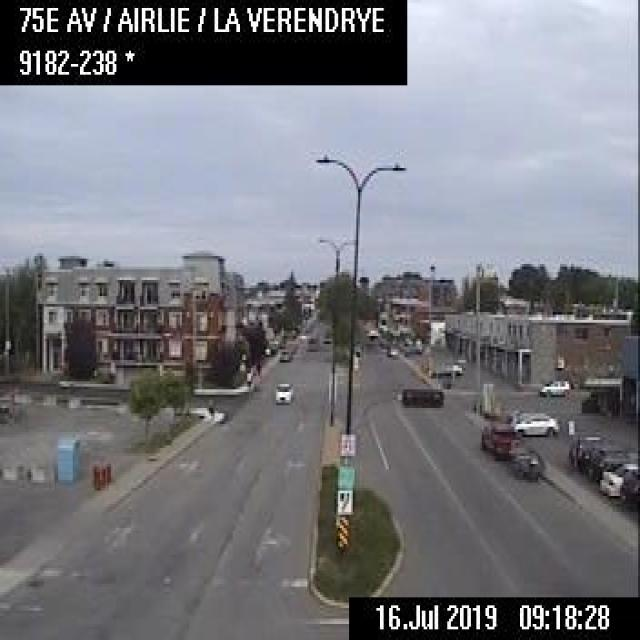construction: (90, 463, 98, 489), (99, 462, 105, 487), (104, 460, 110, 482)
vehicle: (476, 419, 519, 457), (505, 441, 545, 481), (599, 460, 637, 500), (513, 412, 558, 435), (616, 469, 638, 504), (536, 376, 569, 397), (431, 360, 462, 375), (273, 378, 291, 402), (274, 344, 290, 362), (386, 345, 398, 357)
